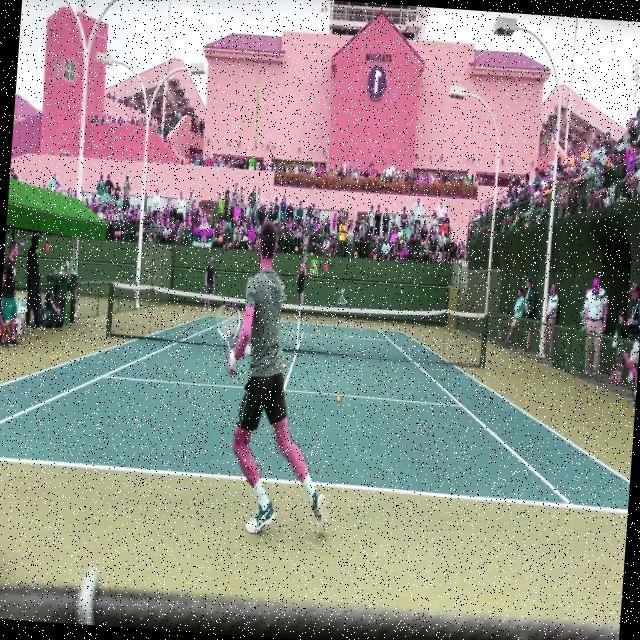court: (0, 300, 639, 513)
net: (101, 276, 490, 374)
player: (199, 218, 346, 540)
